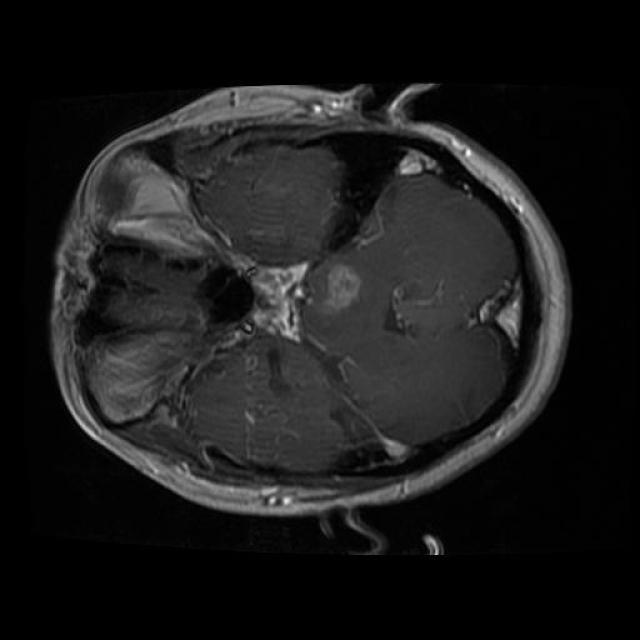Glioma: (320, 265, 361, 314)
